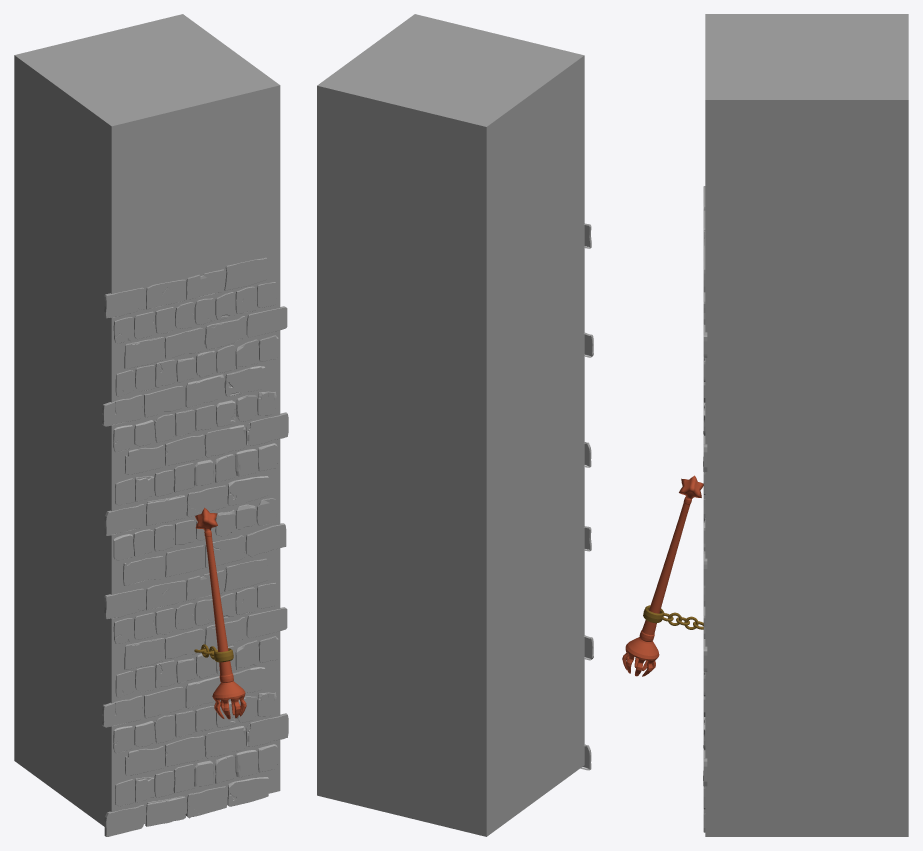
File: Wall_2.obj
3 views of the same model, side by side, from view 1: azimuth 30°, elevation 25°; view 2: azimuth 150°, elevation 25°; view 3: azimuth 270°, elevation 25° (orthographic). The views are drawn at different scales.
Parts seen in each view (by area): view 1: Cube.002_Cube.004, BricksBloc.001_BricksBloc.002, Cylinder; view 2: Cube.002_Cube.004, BricksBloc.001_BricksBloc.002; view 3: Cube.002_Cube.004, Cylinder, BricksBloc.001_BricksBloc.002.
Boxes of the visible parts, box(x1,y1,x2,y2) form: Cube.002_Cube.004: box(14, 14, 280, 826); BricksBloc.001_BricksBloc.002: box(102, 257, 288, 836); Cylinder: box(204, 529, 246, 719); Cube.002_Cube.004: box(317, 14, 584, 836); BricksBloc.001_BricksBloc.002: box(580, 223, 593, 770); Cube.002_Cube.004: box(705, 14, 908, 836); Cylinder: box(622, 497, 691, 676); BricksBloc.001_BricksBloc.002: box(703, 186, 707, 832).
Bounding box in the file's own units: 2.2 × 8.05 × 2.82.
